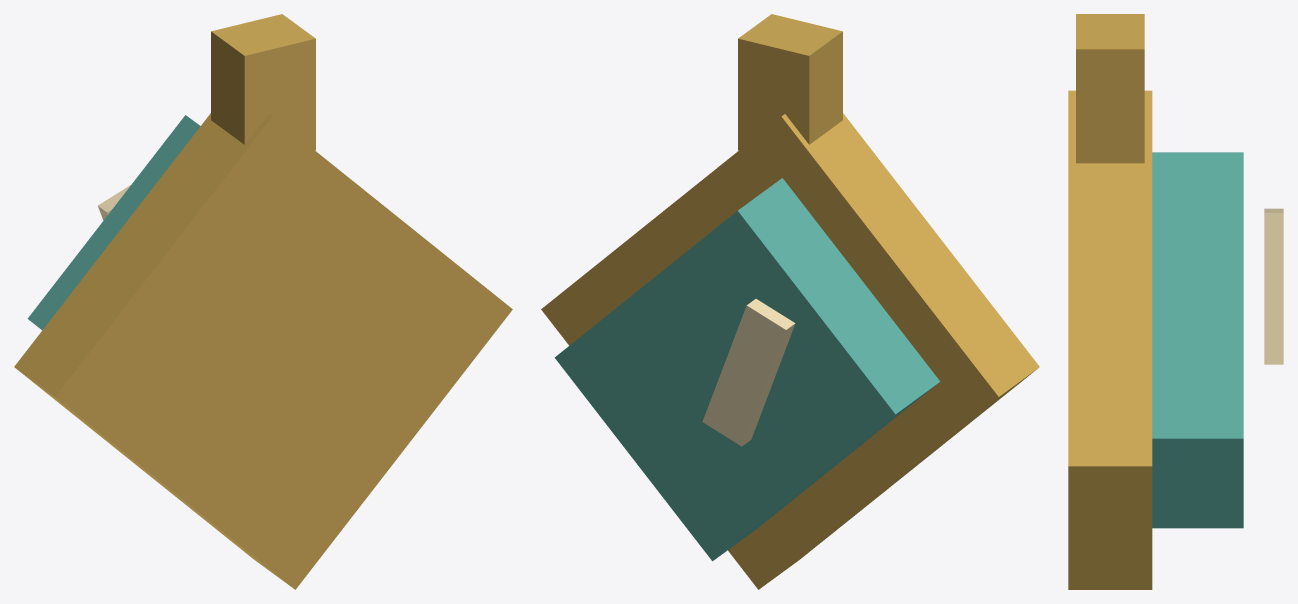
The model's file is vitality_charm.glb.
3 renders of one model, left to right at view 1: azimuth 30°, elevation 25°; view 2: azimuth 150°, elevation 25°; view 3: azimuth 270°, elevation 25°, orthographic.
Visible parts, largest first — view 1: vitality_charm; view 2: vitality_charm; view 3: vitality_charm.
Boxes of the visible parts, <box> form: vitality_charm: <box>14,14,512,589</box>; vitality_charm: <box>541,14,1039,589</box>; vitality_charm: <box>1068,14,1283,589</box>.
Bounding box in the file's own units: 1.41 × 1.6 × 0.565.
